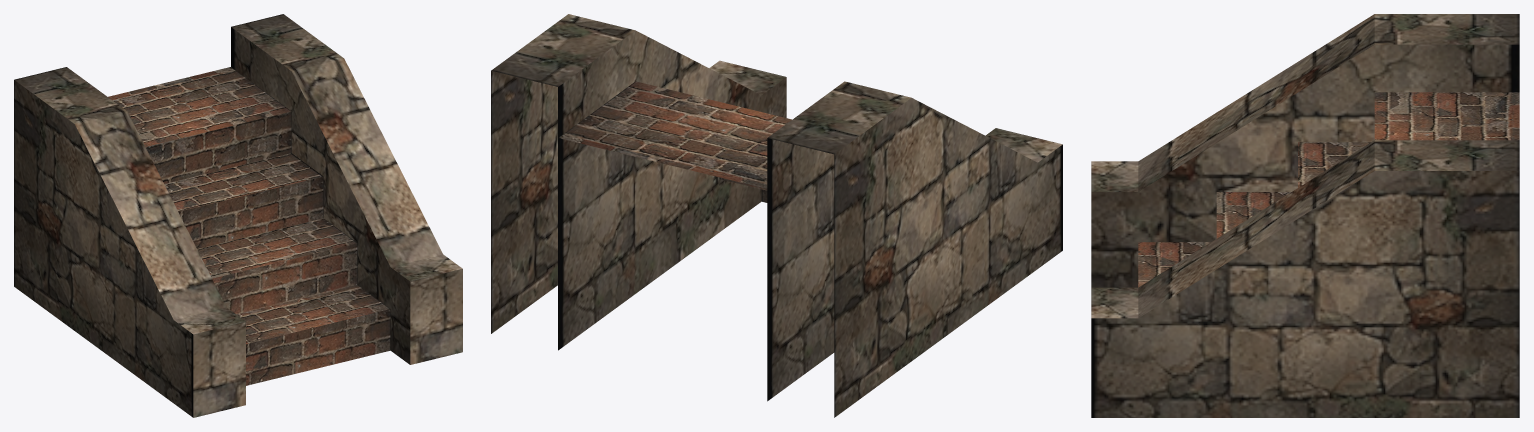
The model's file is stairs_brick_1.fbx.
The picture shows the model from 3 angles, left to right: view 1: azimuth 30°, elevation 25°; view 2: azimuth 150°, elevation 25°; view 3: azimuth 270°, elevation 25°; orthographic projection. The views are drawn at different scales.
Parts seen in each view (by area): view 1: stairs_brick_1; view 2: stairs_brick_1; view 3: stairs_brick_1.
Boxes of the visible parts, bbox=[...] form: stairs_brick_1: bbox=[14, 14, 462, 417]; stairs_brick_1: bbox=[491, 14, 1062, 417]; stairs_brick_1: bbox=[1091, 14, 1519, 417].
Size of the model in its own units: 1.45 by 1.06 by 1.67.
